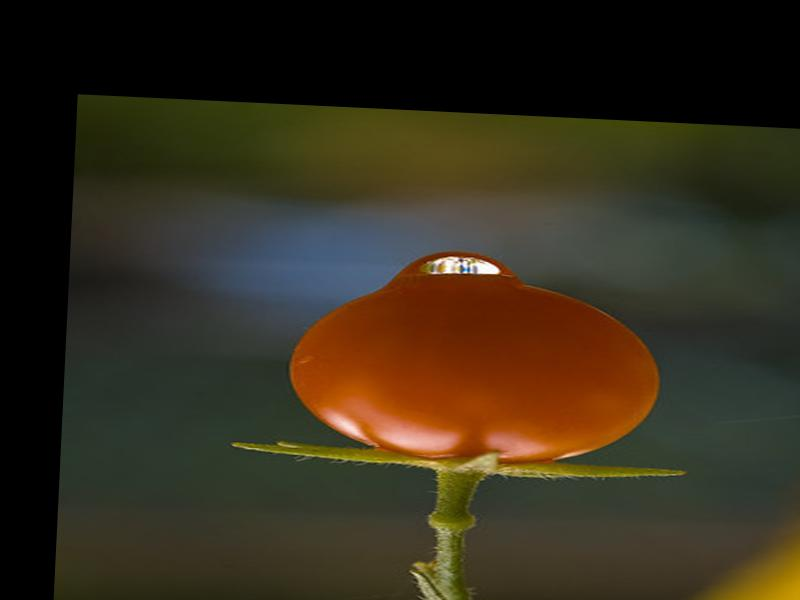Tomato: (282, 272, 661, 471)
